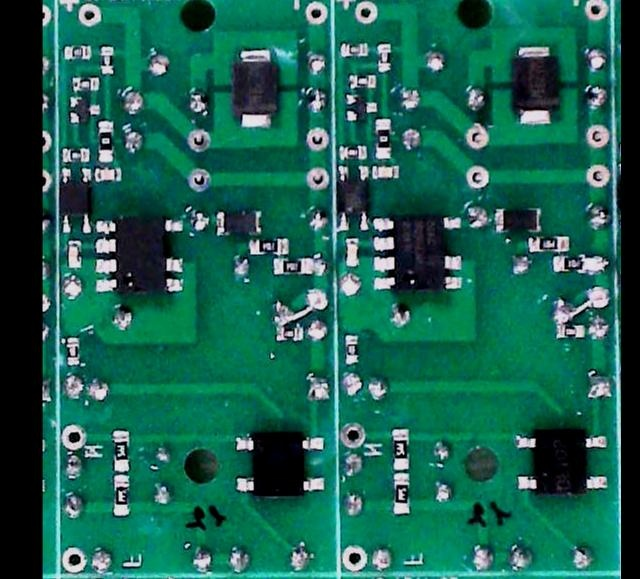chip-capacitor: (65, 238, 83, 270), (343, 236, 361, 268), (370, 162, 401, 180), (93, 165, 123, 183)
chip-resistor: (389, 425, 411, 471), (110, 428, 131, 474), (391, 472, 413, 515), (96, 118, 116, 163), (526, 234, 569, 254), (373, 117, 393, 160), (111, 475, 130, 517), (271, 257, 313, 276), (247, 237, 289, 256), (551, 254, 589, 273), (343, 333, 361, 367), (60, 146, 91, 164), (374, 42, 392, 73), (65, 334, 81, 368), (346, 72, 378, 89), (337, 143, 367, 161), (98, 43, 114, 75), (554, 324, 586, 340), (275, 325, 305, 342), (70, 75, 101, 91), (339, 42, 370, 58), (64, 43, 92, 59)
diode: (229, 47, 279, 132), (509, 44, 559, 126), (492, 206, 543, 235), (213, 208, 263, 237)
ic: (370, 212, 464, 295), (93, 215, 185, 296), (512, 428, 609, 497), (232, 431, 325, 498), (335, 163, 370, 232), (59, 166, 93, 235)
transistor: (342, 91, 378, 122), (68, 94, 100, 124)
